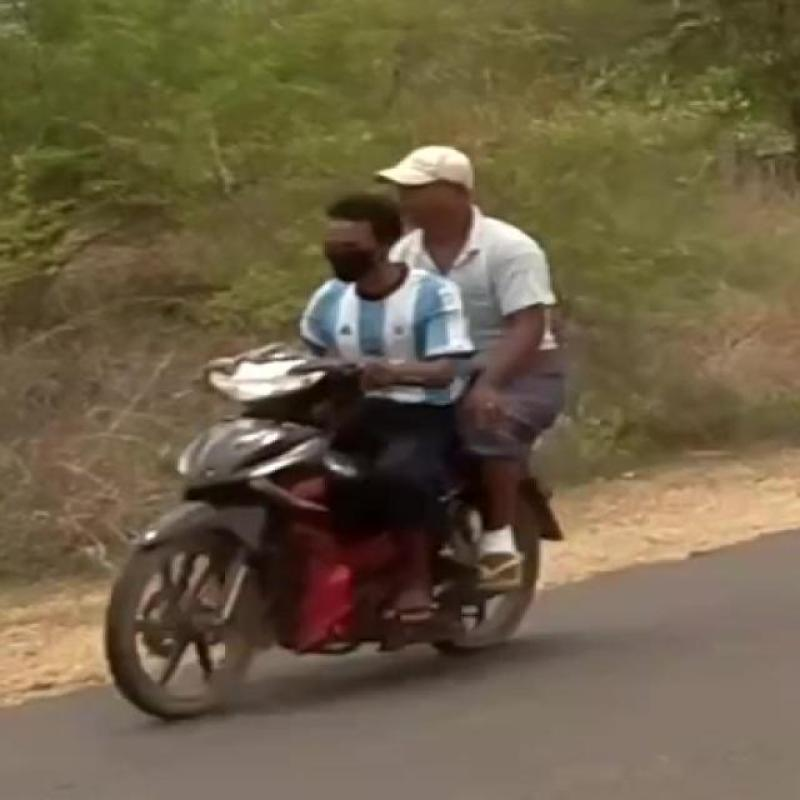nohelmet: (382, 114, 504, 244), (296, 186, 406, 304)
